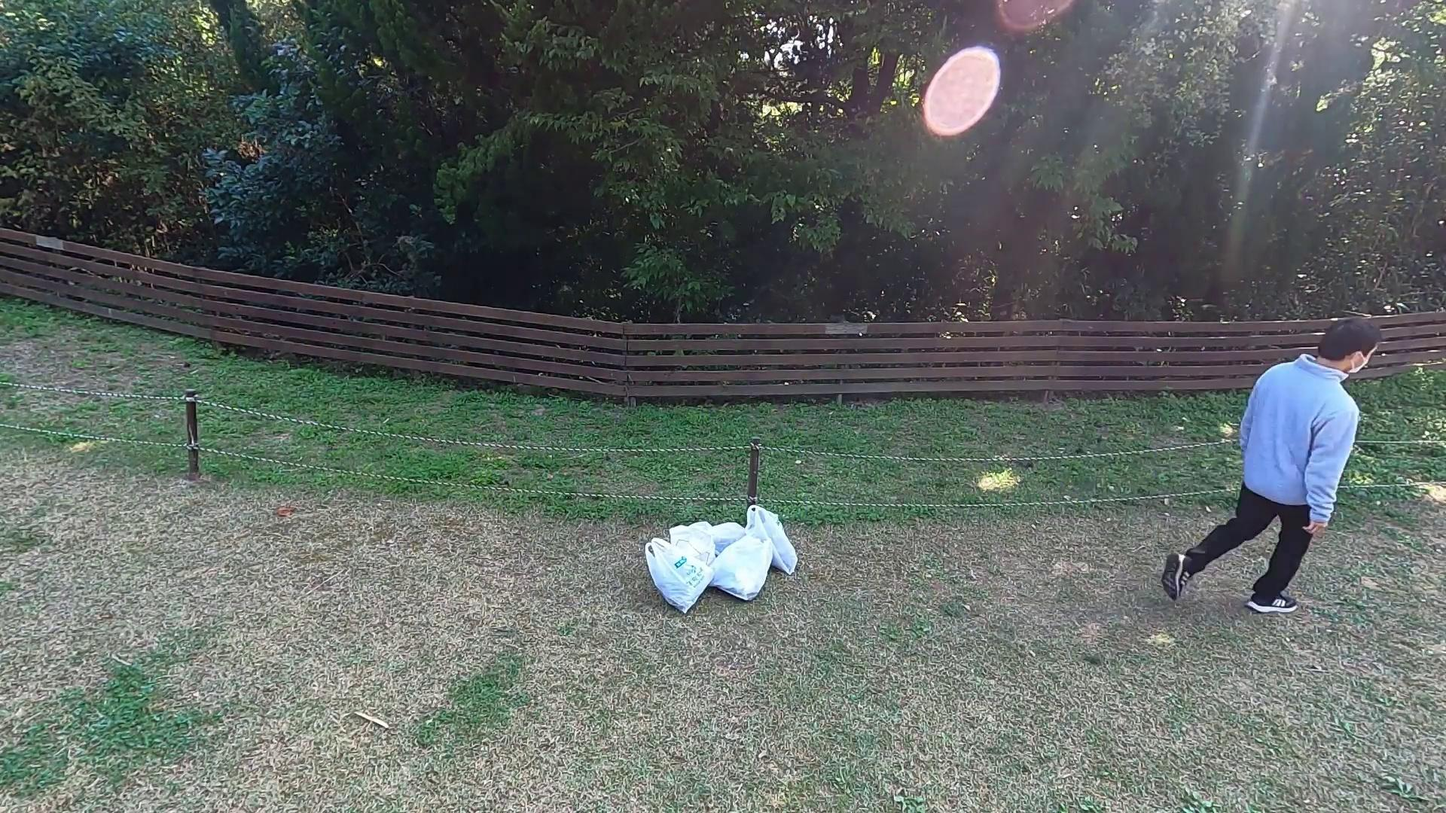person: (1155, 311, 1395, 616)
trash: (641, 535, 717, 616), (739, 501, 812, 585), (712, 531, 773, 600), (667, 515, 720, 582), (711, 508, 747, 563)
